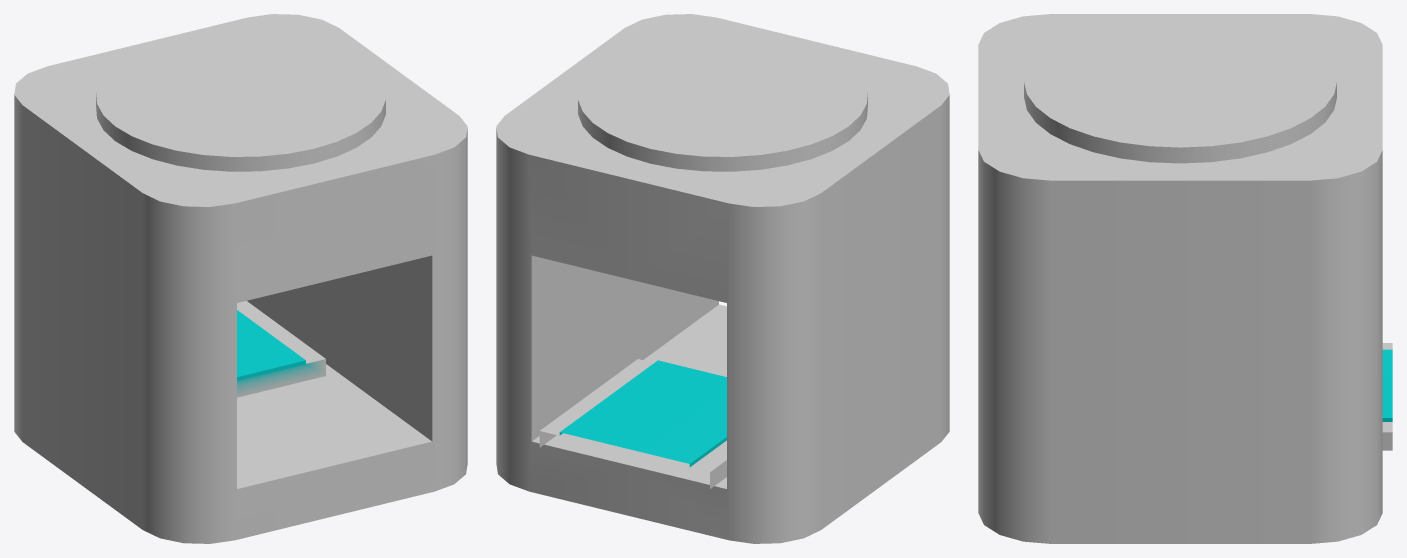
Rendered from TrainStationUnloaderInternalVariant.gltf.
The picture shows the model from 3 angles, left to right: view 1: azimuth 30°, elevation 25°; view 2: azimuth 150°, elevation 25°; view 3: azimuth 270°, elevation 25°; orthographic projection. The views are drawn at different scales.
Visible parts, largest first — view 1: TrainStation_Unloader_Main_LOD0; view 2: TrainStation_Unloader_Main_LOD0; view 3: TrainStation_Unloader_Main_LOD0.
Part boxes in pixels (bbox=[...]): TrainStation_Unloader_Main_LOD0: bbox=[14, 14, 467, 543]; TrainStation_Unloader_Main_LOD0: bbox=[496, 14, 949, 543]; TrainStation_Unloader_Main_LOD0: bbox=[978, 14, 1392, 543].
Size of the model in its own units: 0.9303 by 0.9874 by 0.9769.
